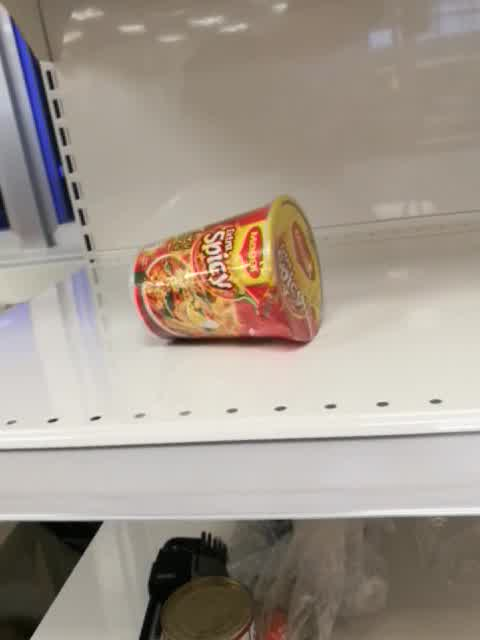maggi: (133, 195, 323, 346)
